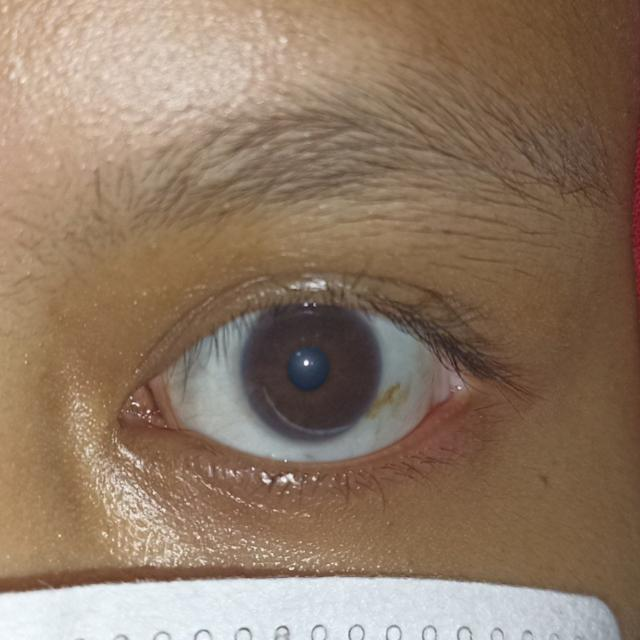Normal: (239, 292, 379, 448)
